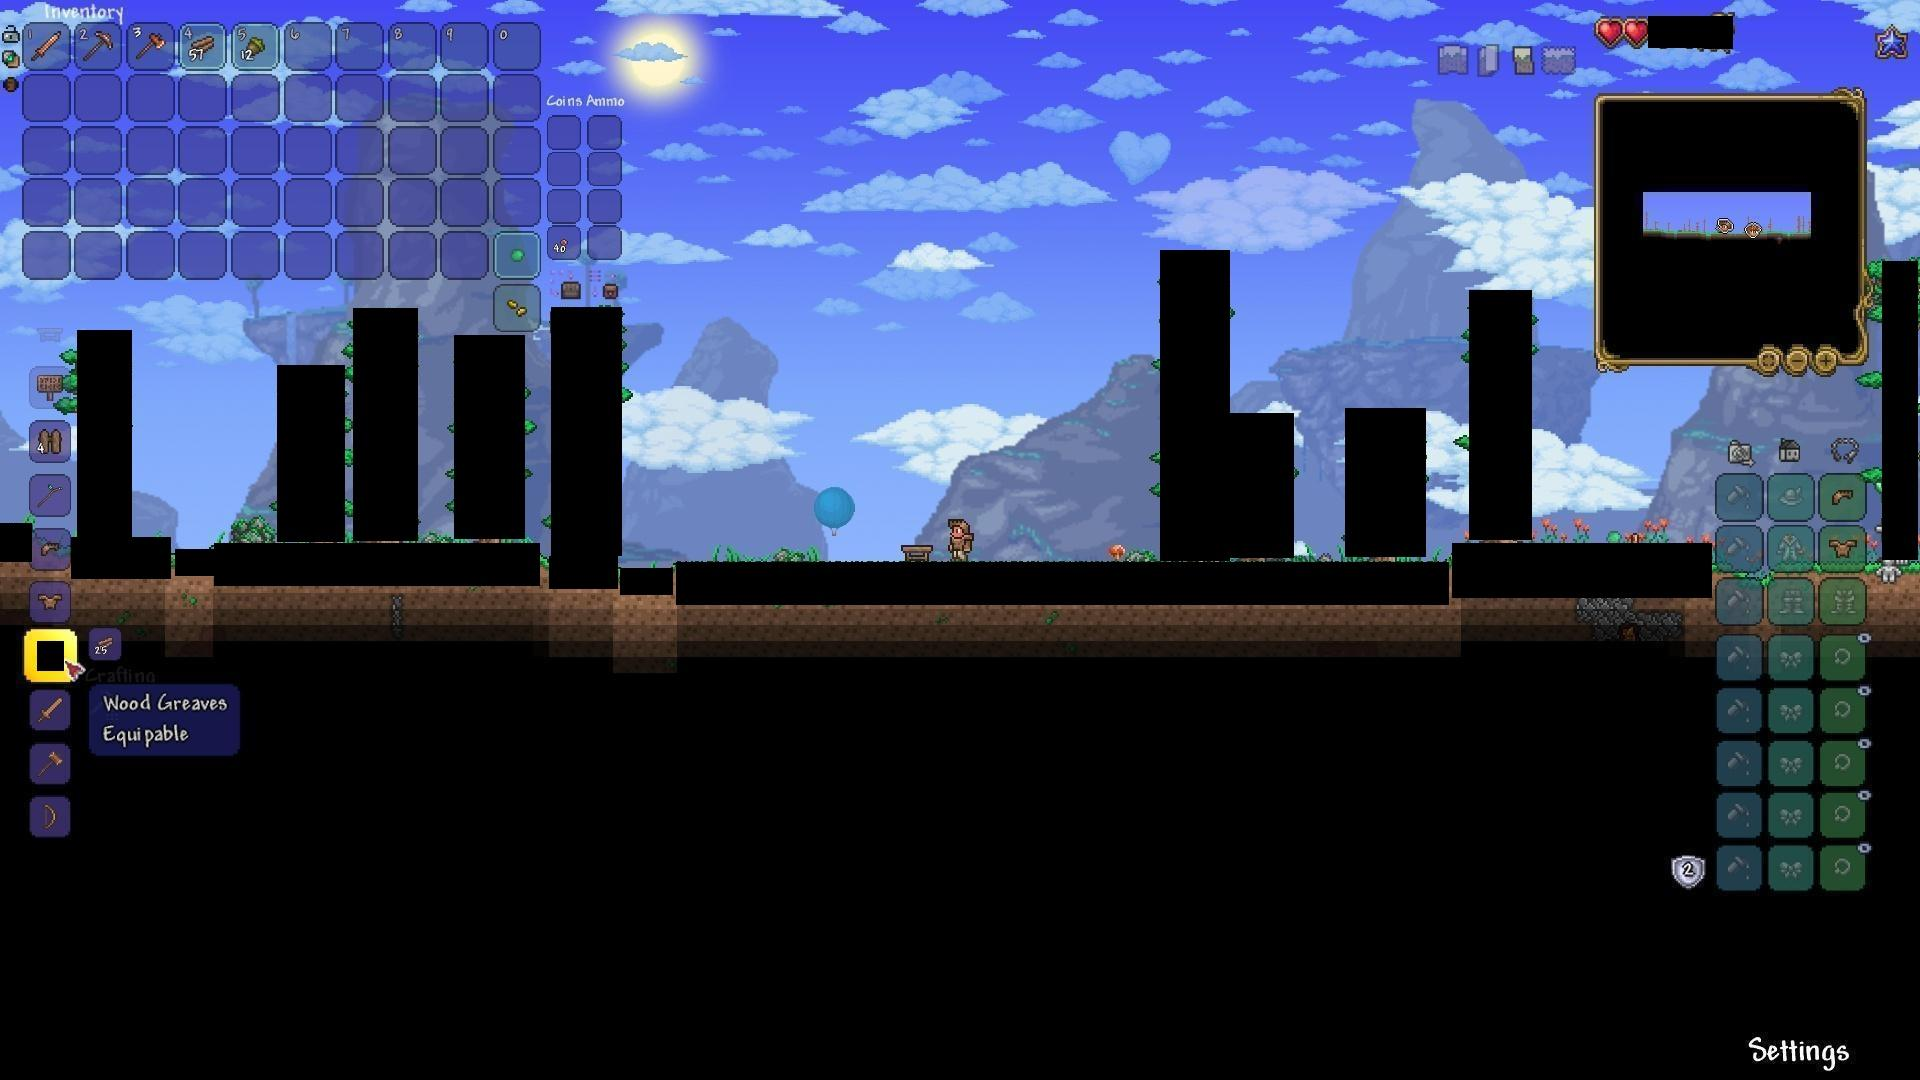breastplate: (36, 592, 66, 613), (1829, 537, 1859, 558)
heart: (1598, 15, 1626, 44), (1625, 17, 1651, 47)
helmet: (36, 535, 66, 564), (1826, 484, 1858, 512)
wood: (185, 29, 216, 59), (90, 632, 123, 661)
workbench: (899, 542, 938, 567)
